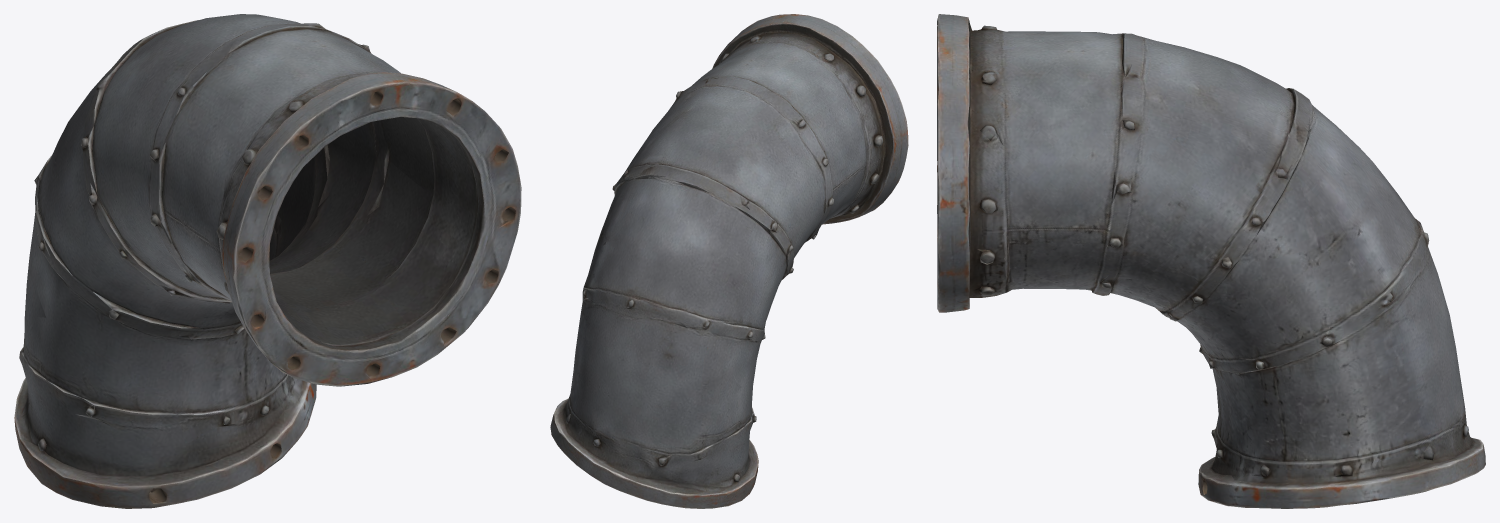
File: ENV-PIPEKIT-ELBOW-lod0.glb
3 renders of one model, left to right at view 1: azimuth 30°, elevation 25°; view 2: azimuth 150°, elevation 25°; view 3: azimuth 270°, elevation 25°, orthographic. The views are drawn at different scales.
Parts seen in each view (by area): view 1: Mesh; view 2: Mesh; view 3: Mesh.
Part boxes in pixels (<box>): Mesh: <box>14,14,521,508</box>; Mesh: <box>550,14,908,508</box>; Mesh: <box>937,14,1485,508</box>.
Bounding box in the file's own units: 1.04 × 1.84 × 1.89.
1 material, 1 textured.
